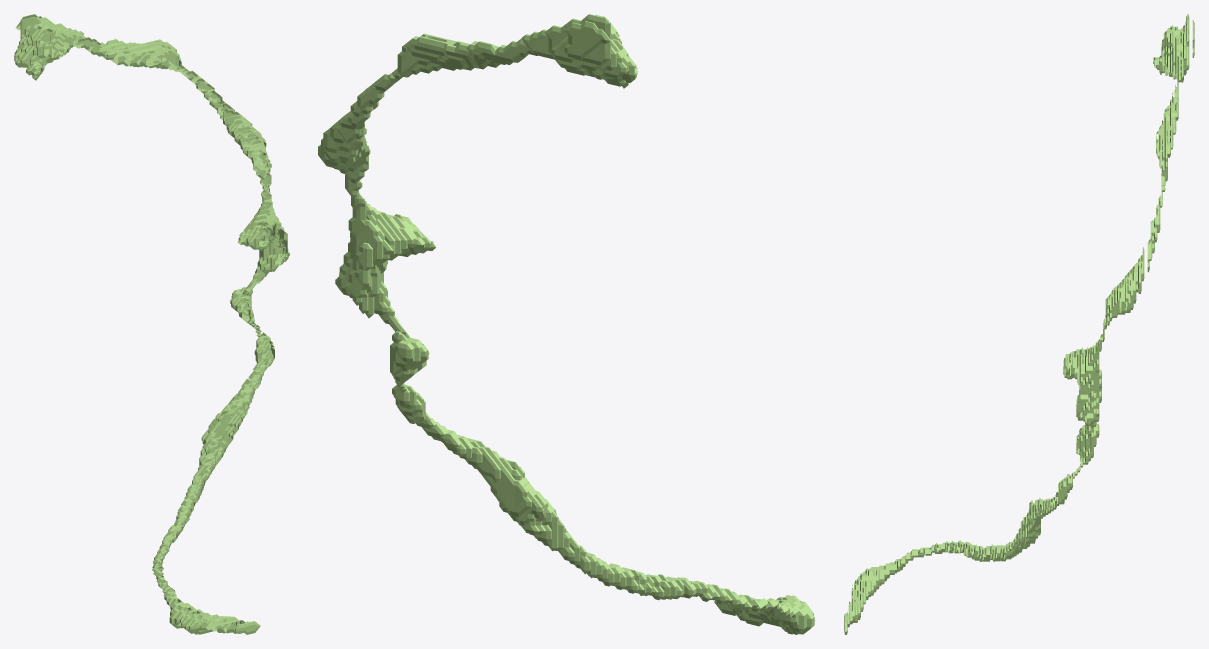
Rendered from SVV_AWBR.gltf.
The picture shows the model from 3 angles, left to right: view 1: azimuth 30°, elevation 25°; view 2: azimuth 150°, elevation 25°; view 3: azimuth 270°, elevation 25°; orthographic projection. The views are drawn at different scales.
Parts seen in each view (by area): view 1: AWBR; view 2: AWBR; view 3: AWBR.
Part boxes in pixels (x1=…): AWBR: x1=14, y1=14, x2=289, y2=634; AWBR: x1=318, y1=14, x2=815, y2=634; AWBR: x1=844, y1=14, x2=1194, y2=634.
Size of the model in its own units: 43529 by 92719 by 50821.
